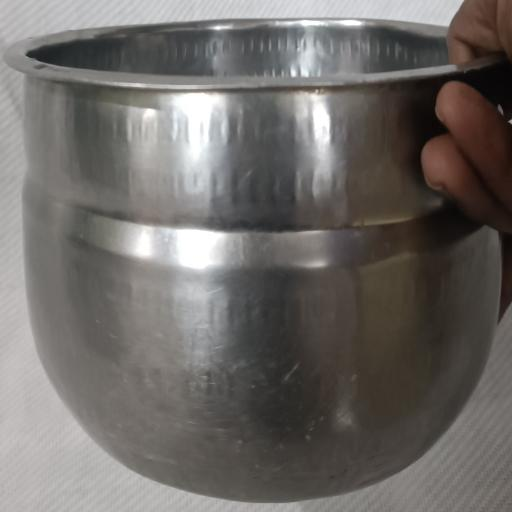vessel: (7, 20, 510, 501)
